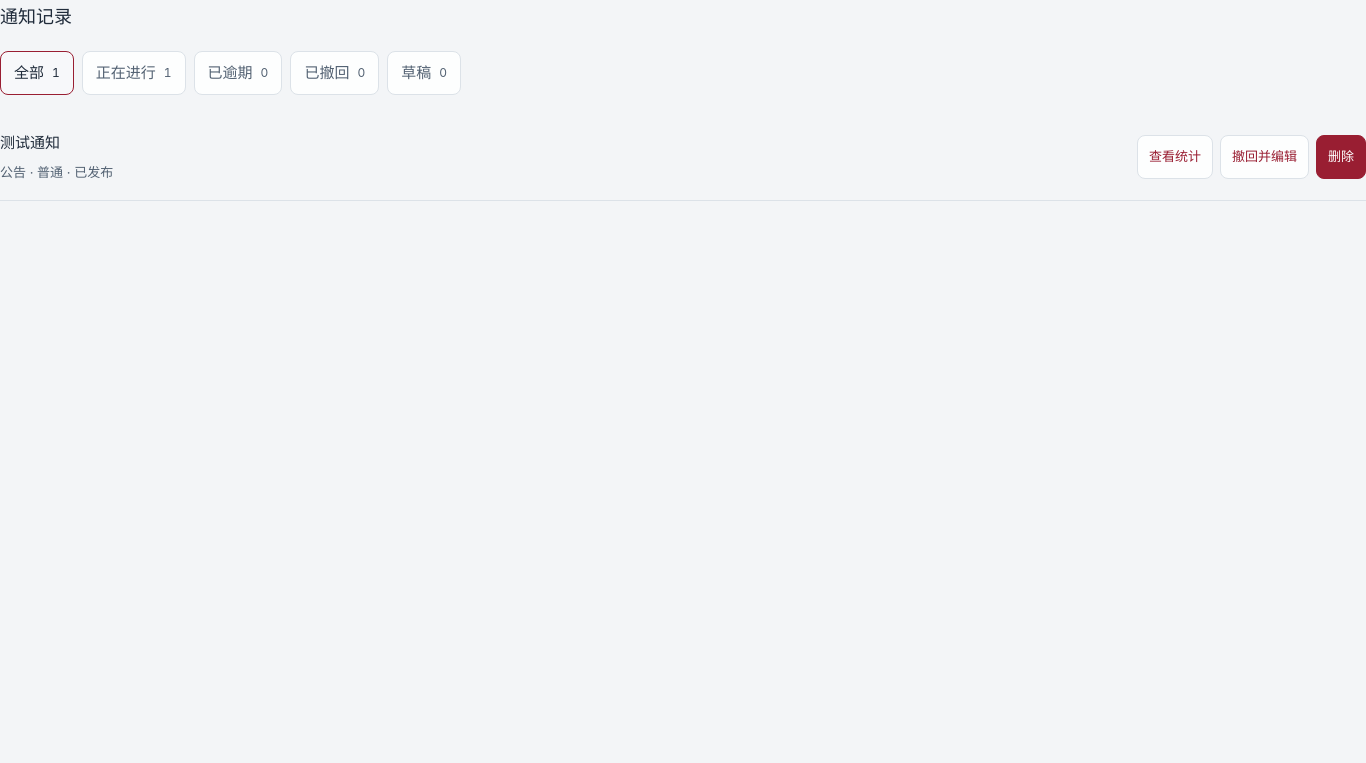
withdraws a published notification into its original draft editor after confirmation
Step 1. Click the button "撤回并编辑" → (1264, 157), box [1220,135,1309,179]
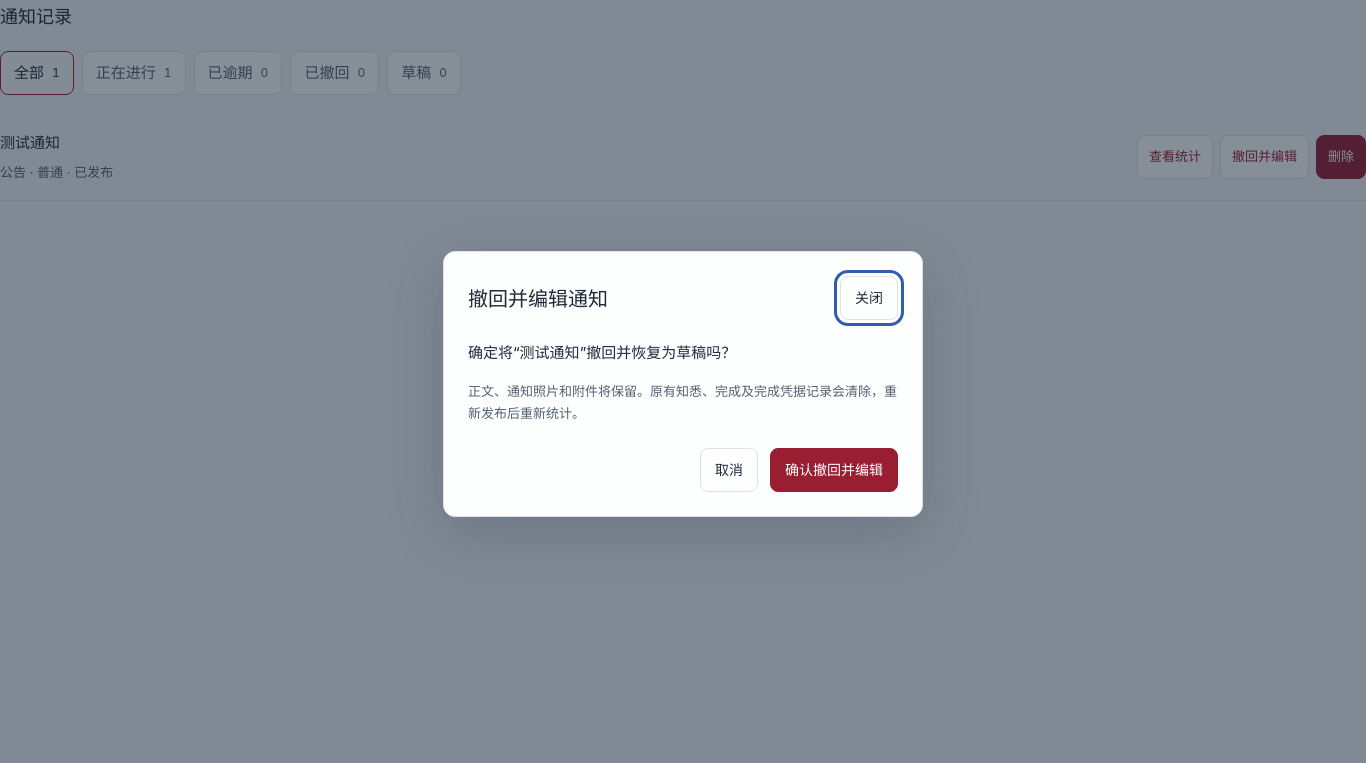
Step 2. Click the button "确认撤回并编辑" → (834, 470), box [770,448,898,492]
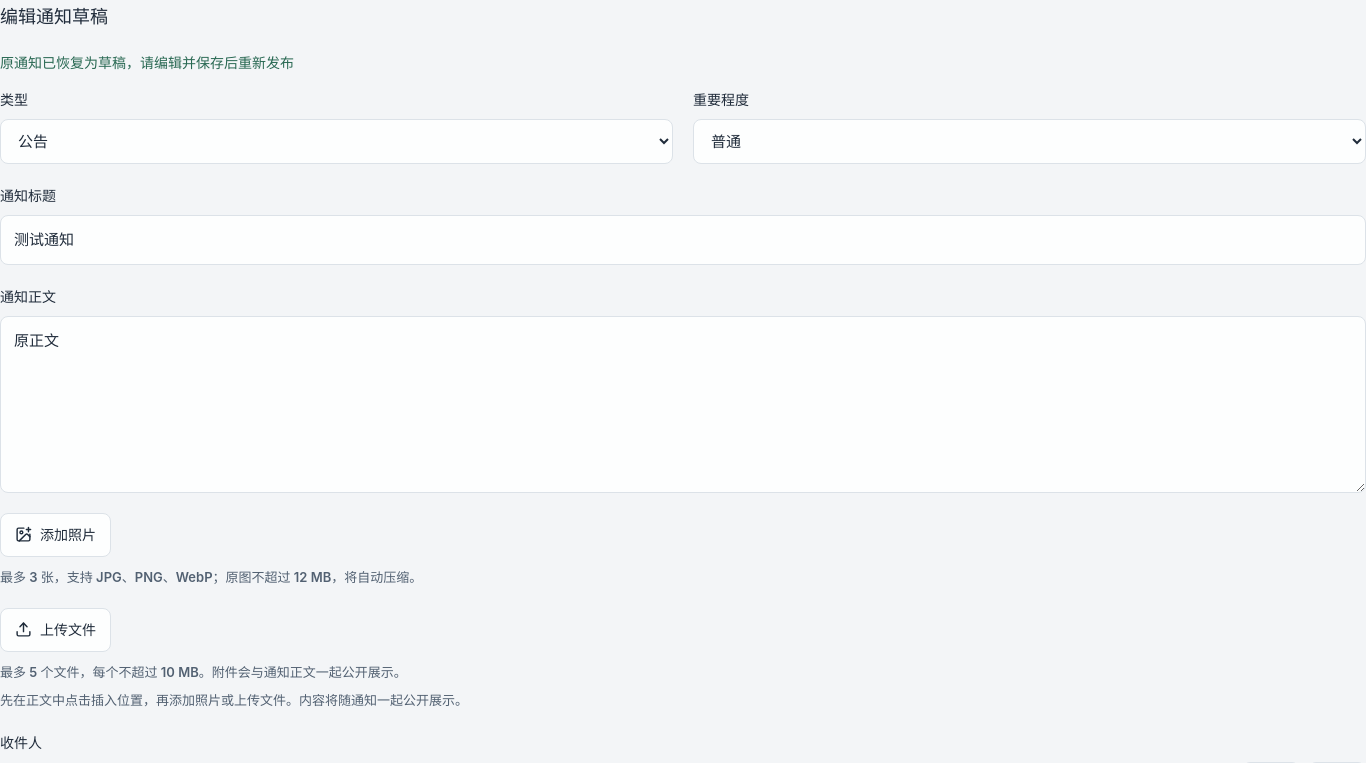
expect the heading "编辑通知草稿" is shown: met, box [0,3,108,31]
expect the text box labelled "通知正文" holds "原正文": met, box [0,316,1365,493]
